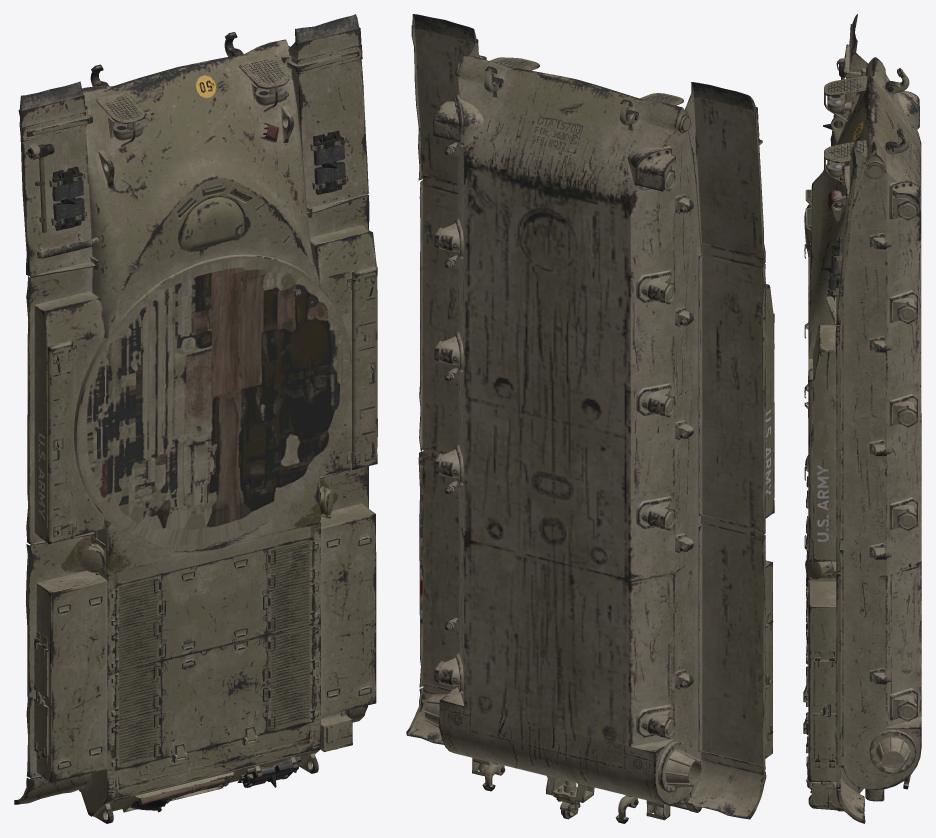
Rendered from Hull.glb.
3 views of the same model, side by side, from view 1: azimuth 30°, elevation 25°; view 2: azimuth 150°, elevation 25°; view 3: azimuth 270°, elevation 25° (orthographic). The views are drawn at different scales.
Parts seen in each view (by area): view 1: set_0_group_0; view 2: set_0_group_0; view 3: set_0_group_0.
Part boxes in pixels (<box>): set_0_group_0: <box>14,14,377,823</box>; set_0_group_0: <box>406,14,774,823</box>; set_0_group_0: <box>803,14,921,823</box>.
Bounding box in the file's own units: 3.36 × 6.99 × 1.09.
Materials: 1 (1 with a texture image).
